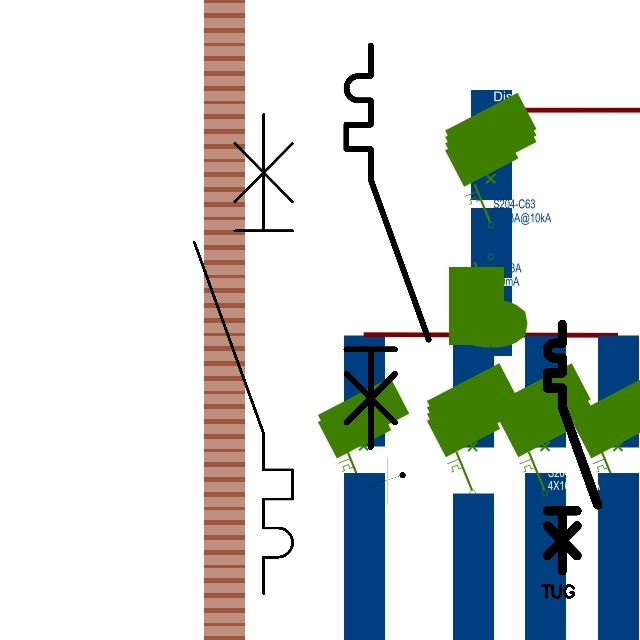interruptor_termomagnetico: (182, 102, 305, 606), (336, 35, 439, 457), (541, 318, 604, 577)
